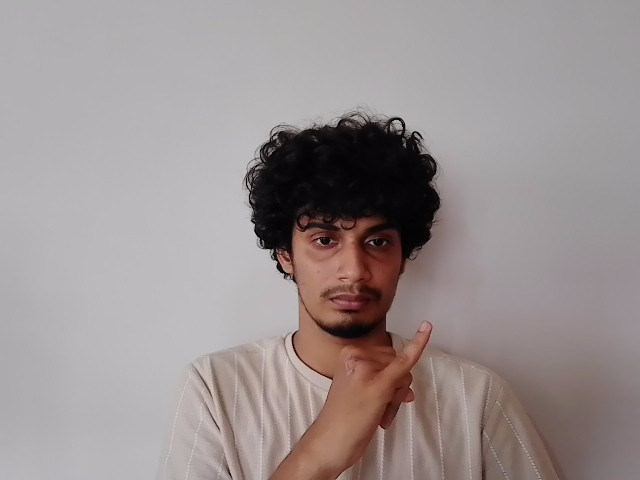bad: (308, 322, 435, 459)
